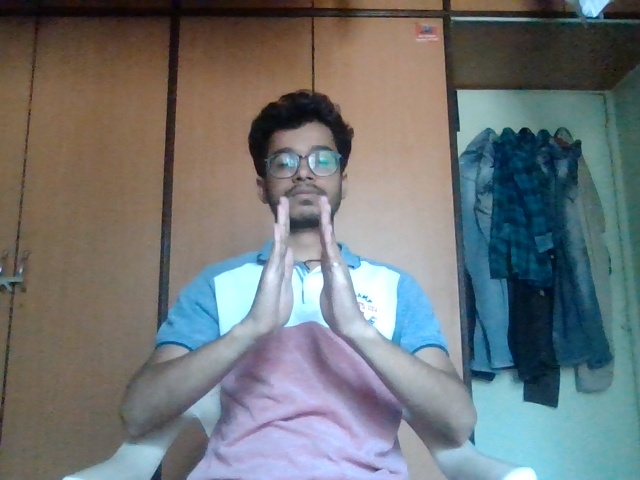morning: (244, 183, 362, 350)
